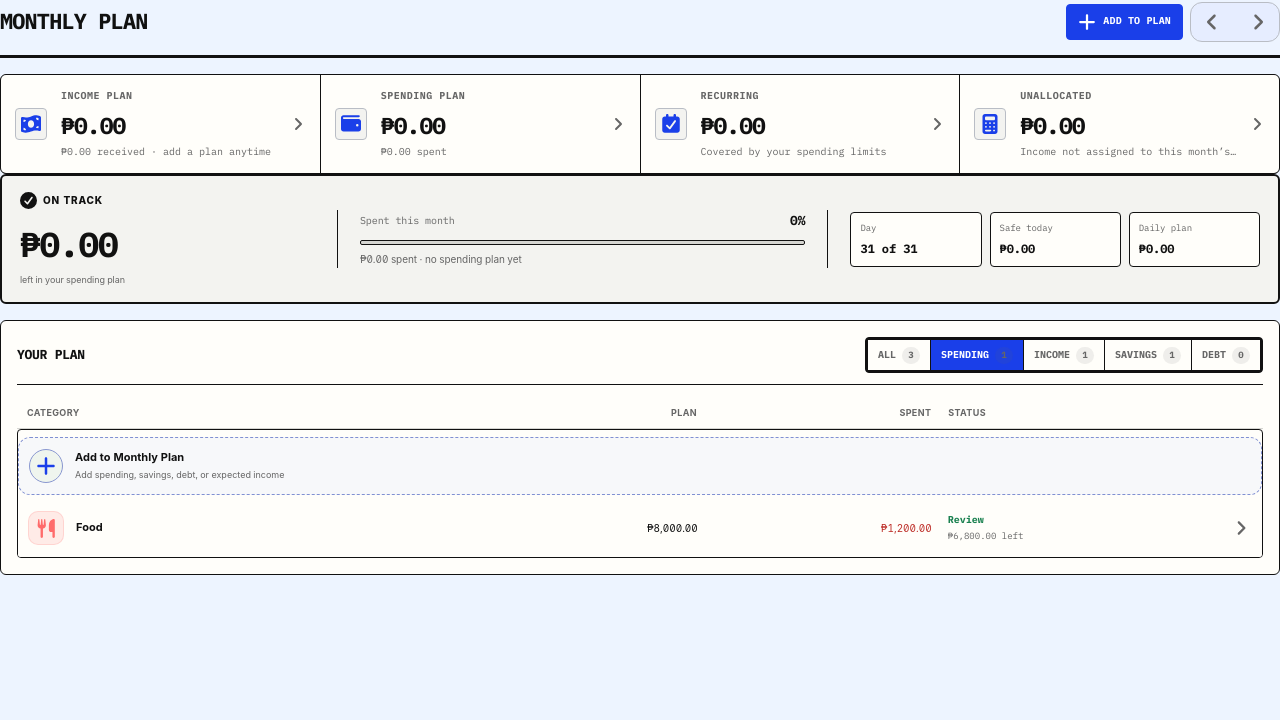
monthly plan sections › stacks spending, income, savings, and debt on one screen
Click the tab "All 3".
click(899, 355)  # box [868,340,930,370]
(page scrolled)
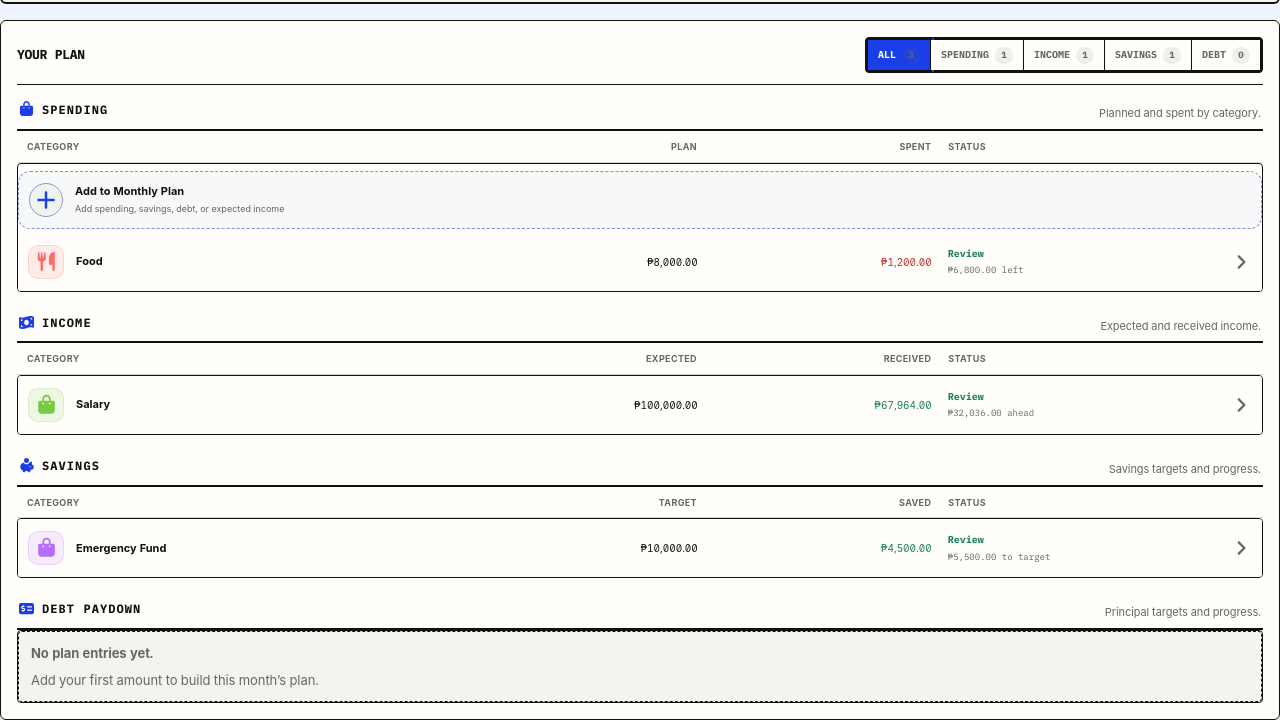
Result: the element with class "monthly-plan-all-sections" is shown
Result: the text "Salary" is shown at [76,397,110,413]
Result: the text "Emergency Fund" is shown at [76,541,166,556]
